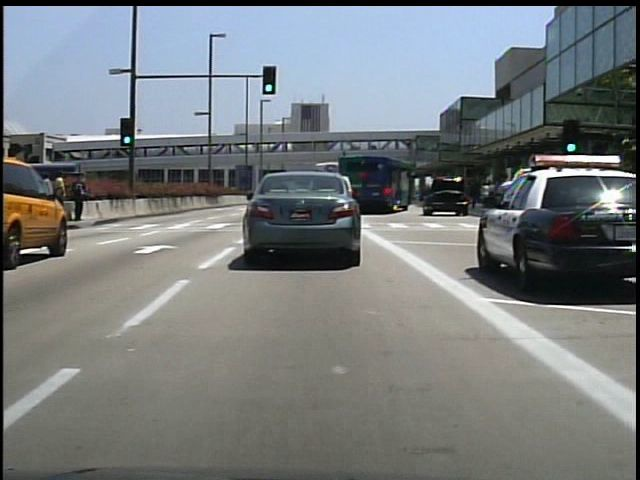person: (71, 173, 91, 224), (40, 172, 57, 225), (56, 169, 71, 205)
